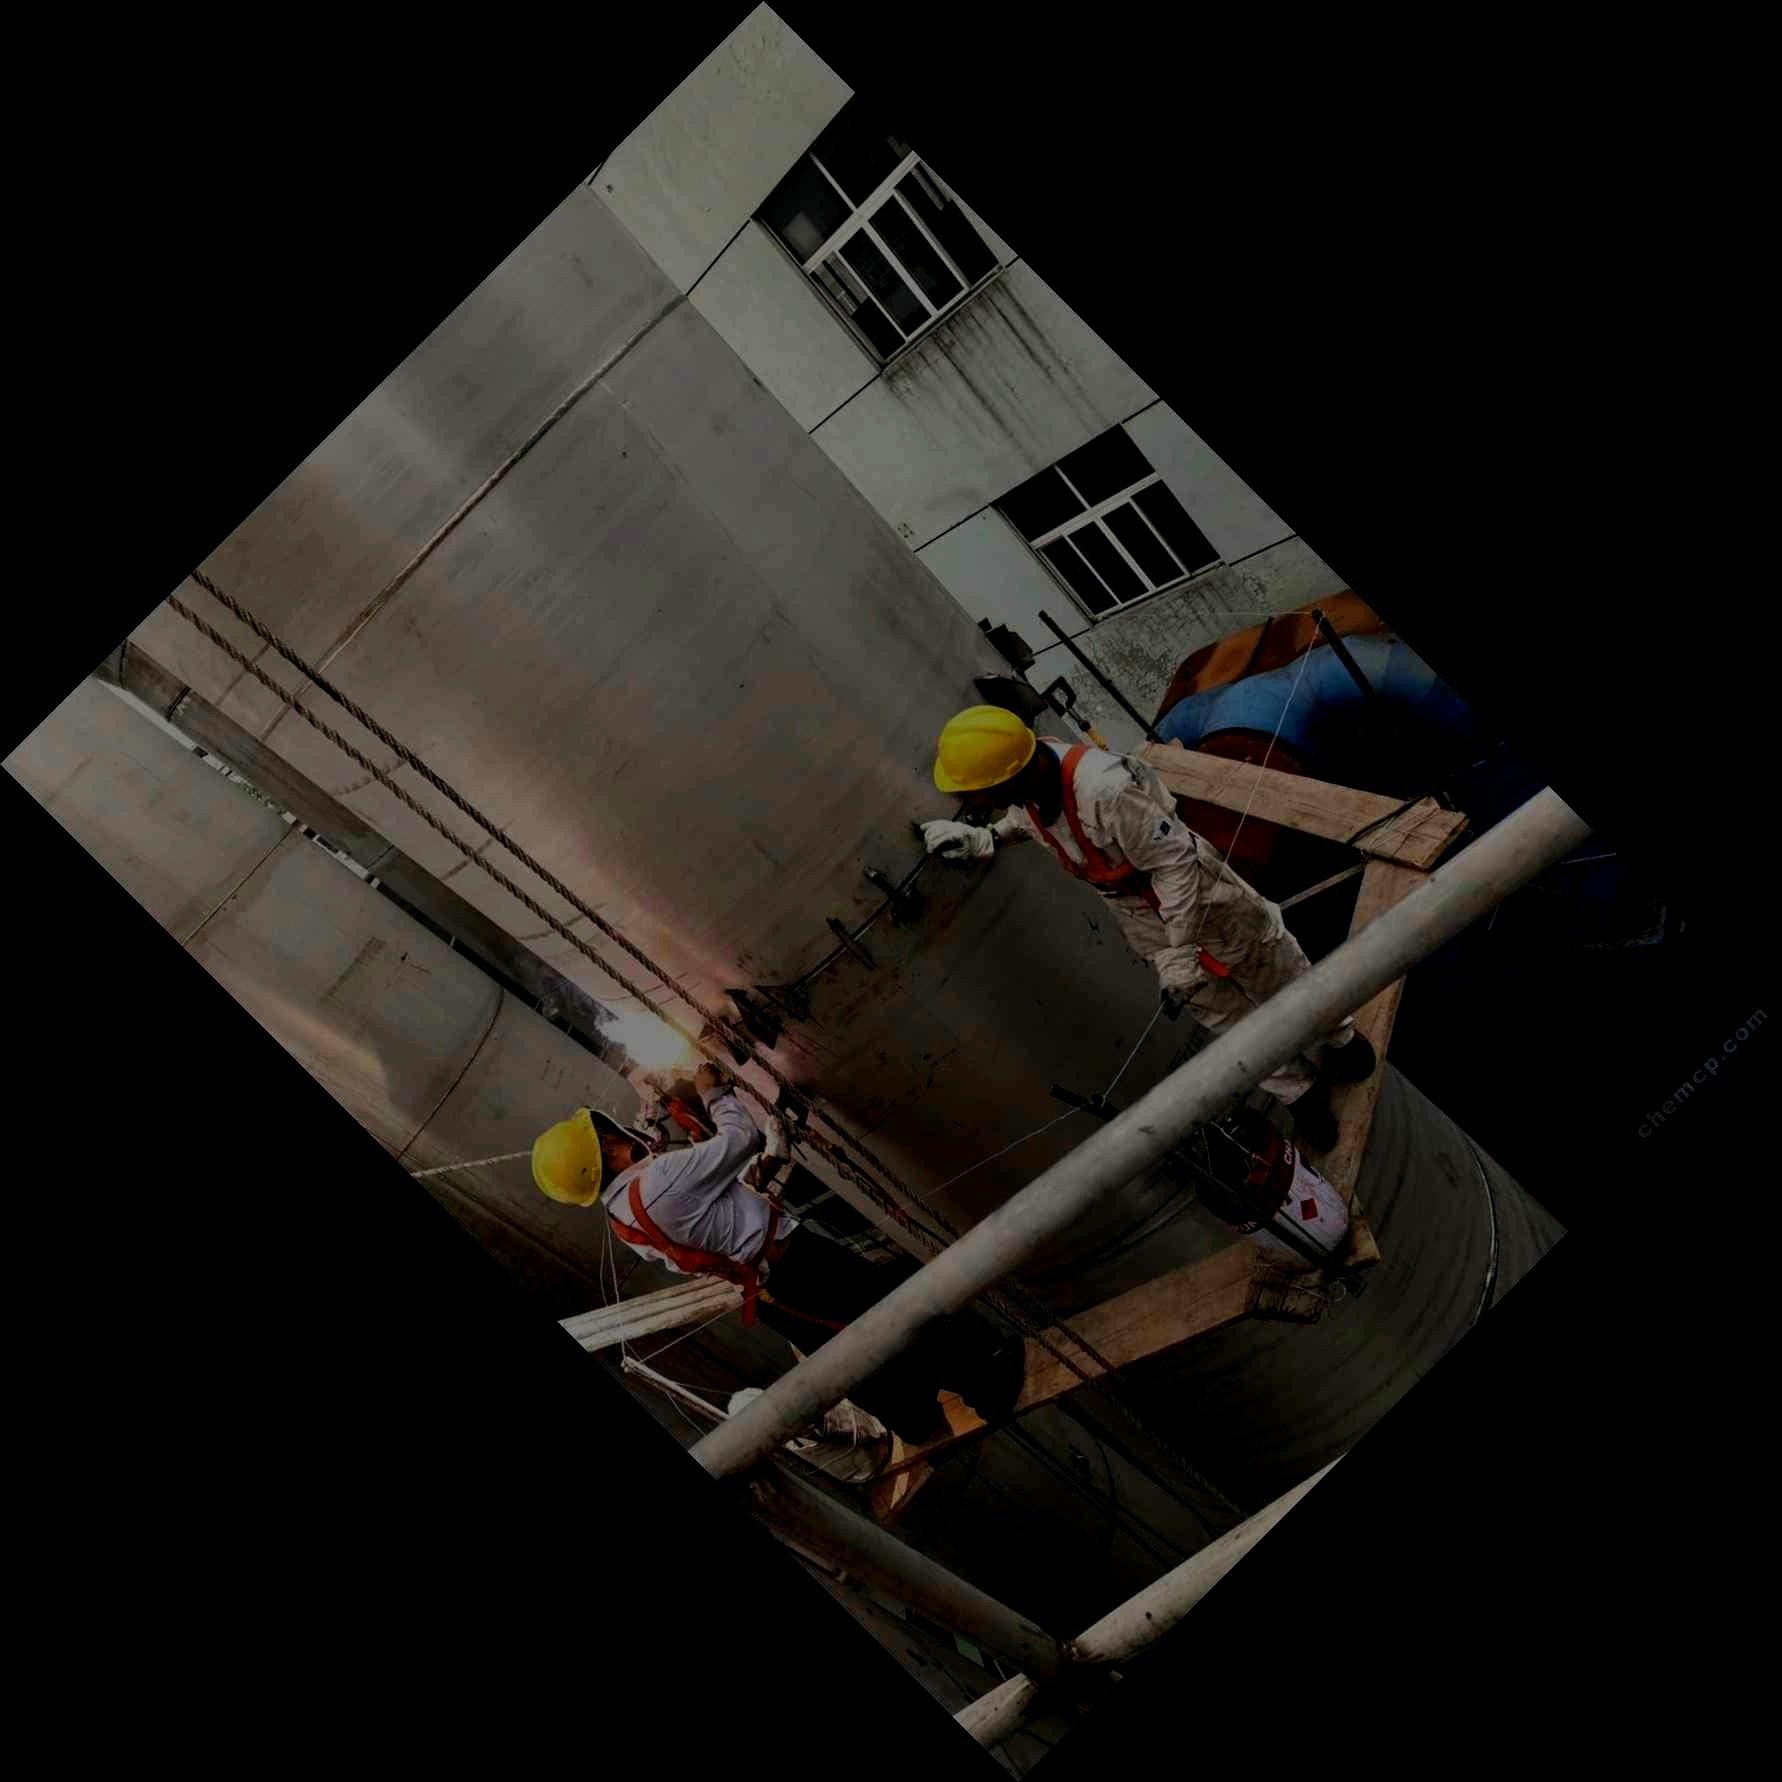helmet: (932, 703, 1036, 814), (530, 1106, 635, 1208)
